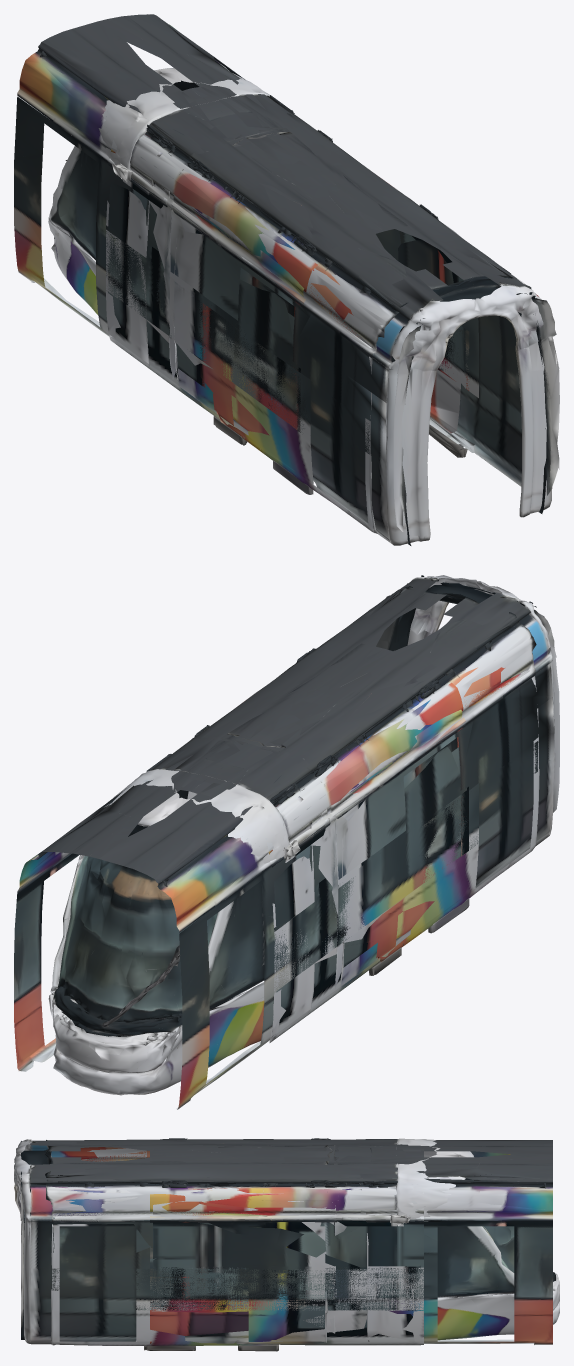
The model's file is angers305_body.glb.
3 renders of one model, top to bottom at view 1: azimuth 30°, elevation 25°; view 2: azimuth 150°, elevation 25°; view 3: azimuth 270°, elevation 25°, orthographic. The views are drawn at different scales.
Parts seen in each view (by area): view 1: Module04, Module00, Module02, Module01, Module03; view 2: Module00, Module04, Module02, Module01, Module03; view 3: Module00, Module04, Module02, Module03, Module01.
Boxes of the visible parts, <box> form: Module04: <box>14,14,552,545</box>; Module00: <box>48,68,559,545</box>; Module02: <box>108,87,465,449</box>; Module01: <box>106,80,463,438</box>; Module03: <box>106,87,469,444</box>; Module00: <box>48,575,559,1095</box>; Module04: <box>14,575,555,1109</box>; Module02: <box>177,650,466,1037</box>; Module01: <box>145,643,468,1042</box>; Module03: <box>158,647,468,1042</box>; Module00: <box>21,1138,559,1345</box>; Module04: <box>14,1138,552,1350</box>; Module02: <box>153,1140,420,1351</box>; Module03: <box>150,1139,423,1343</box>; Module01: <box>150,1138,423,1345</box>.
Size of the model in its own units: 2.4 by 3.18 by 9.24.
1 material, 1 textured.
